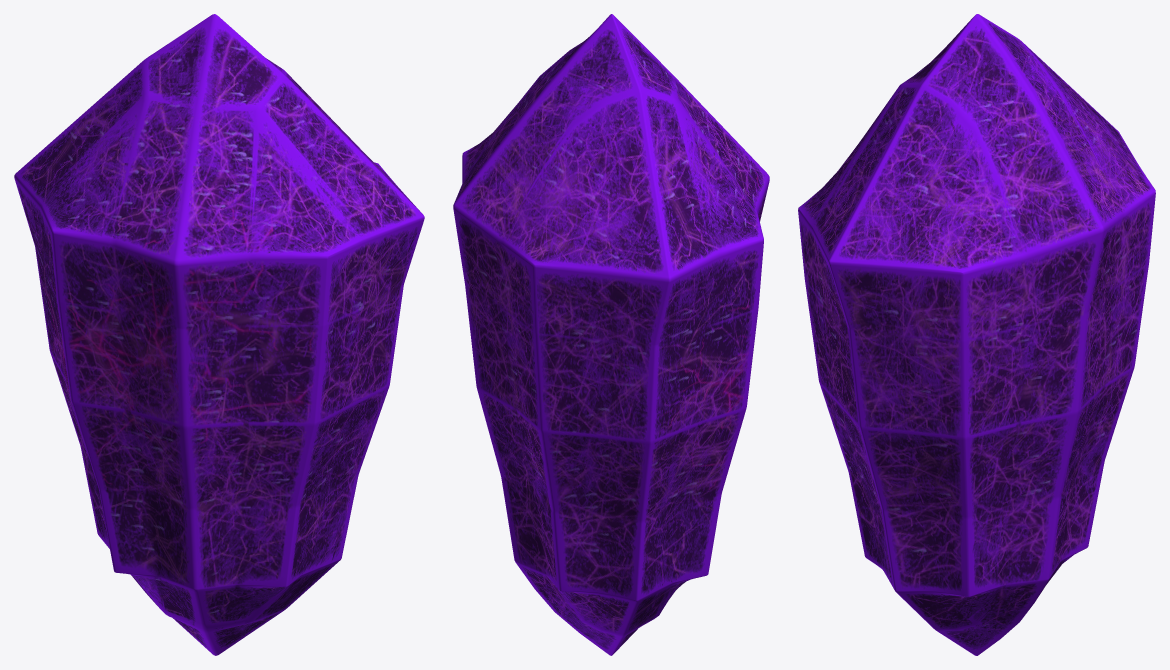
The model's file is crystal_shard.glb.
The picture shows the model from 3 angles, left to right: view 1: azimuth 30°, elevation 25°; view 2: azimuth 150°, elevation 25°; view 3: azimuth 270°, elevation 25°; orthographic projection.
Parts seen in each view (by area): view 1: Baetylus_Stone; view 2: Baetylus_Stone; view 3: Baetylus_Stone.
Part boxes in pixels (<box>): Baetylus_Stone: <box>14,14,424,655</box>; Baetylus_Stone: <box>453,14,769,655</box>; Baetylus_Stone: <box>798,14,1155,655</box>.
Bounding box in the file's own units: 8.52 × 16.68 × 8.43.
Materials: 1 (1 with a texture image).
